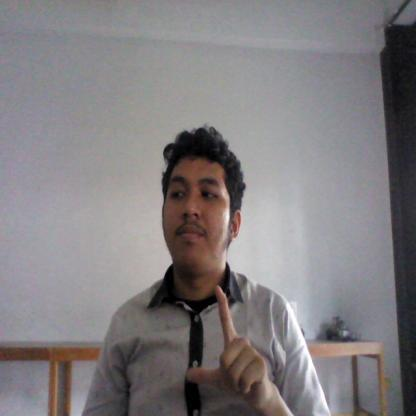L: (180, 283, 284, 414)
